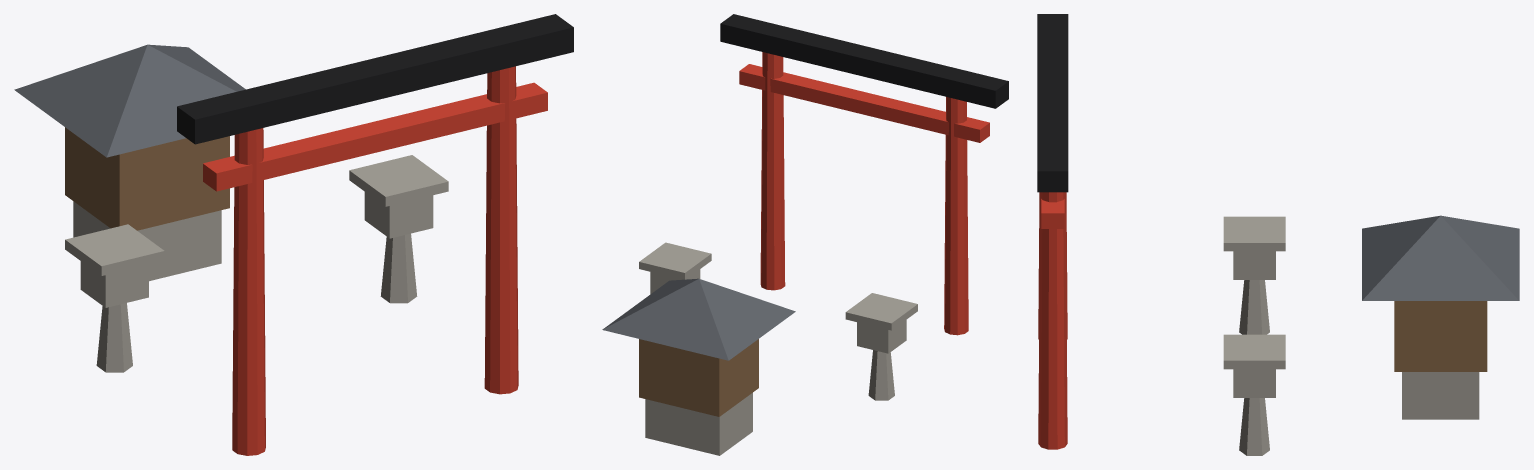
File: roadside_shrine.glb
3 renders of one model, left to right at view 1: azimuth 30°, elevation 25°; view 2: azimuth 150°, elevation 25°; view 3: azimuth 270°, elevation 25°, orthographic. The views are drawn at different scales.
Parts seen in each view (by area): view 1: shrine; view 2: shrine; view 3: shrine.
Boxes of the visible parts, <box> form: shrine: <box>14,14,573,455</box>; shrine: <box>602,14,1008,455</box>; shrine: <box>1037,14,1519,455</box>.
Size of the model in its own units: 4.8 by 4.35 by 6.22.
